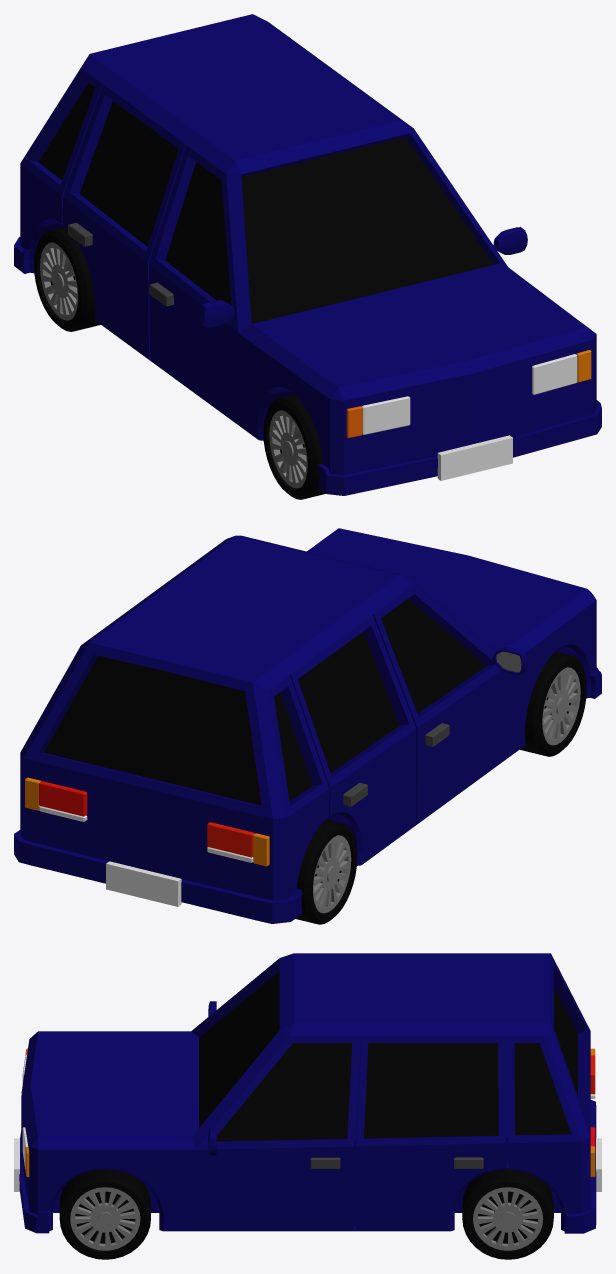
File: CarObject.fbx
The picture shows the model from 3 angles, top to bottom: view 1: azimuth 30°, elevation 25°; view 2: azimuth 150°, elevation 25°; view 3: azimuth 270°, elevation 25°; orthographic projection. The views are drawn at different scales.
Visible parts, largest first — view 1: Body, WheelBR, WheelFR; view 2: Body, WheelFR, WheelBR; view 3: Body, WheelBL, WheelFL.
Boxes of the visible parts, x1,y1,x2,y2 form: Body: (14,14,601,495); WheelBR: (34,227,100,331); WheelFR: (263,394,325,499); Body: (14,528,601,923); WheelFR: (520,651,586,756); WheelBR: (295,819,357,924); Body: (14,953,601,1233); WheelBL: (462,1169,553,1259); WheelFL: (59,1169,150,1259).
Bounding box in the file's own units: 242 × 175 × 435.
